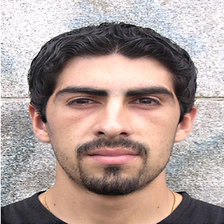no_mask: (44, 62, 180, 188)
